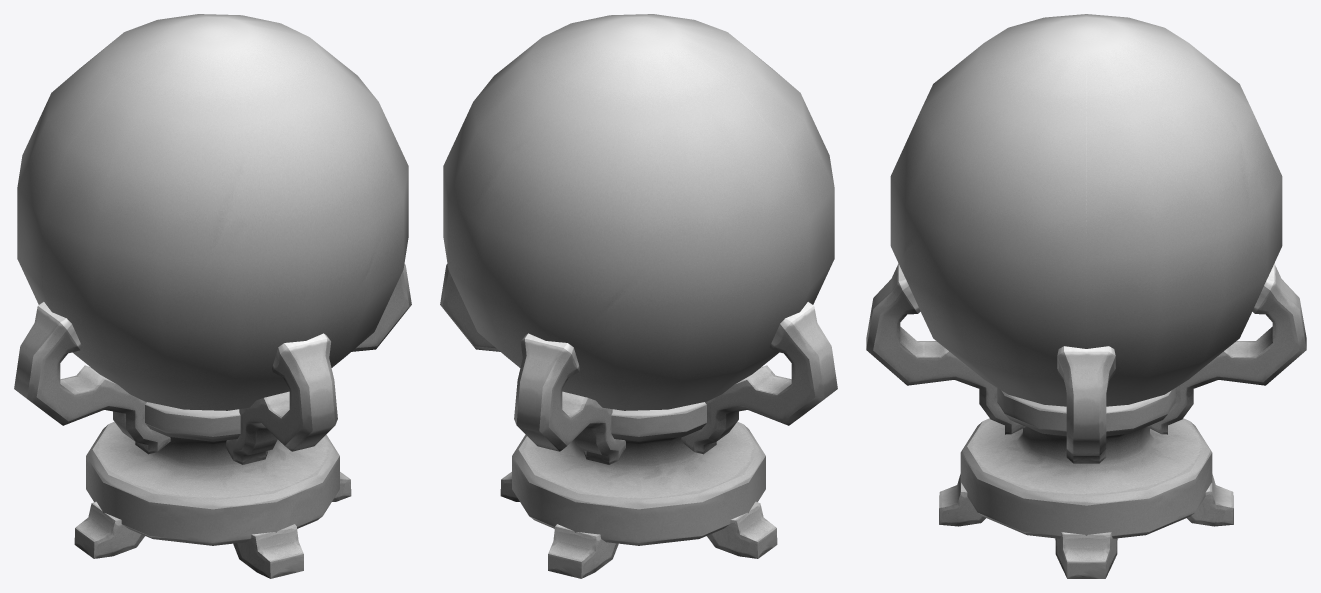
Rendered from 279_an_orb.fbx.
3 renders of one model, left to right at view 1: azimuth 30°, elevation 25°; view 2: azimuth 150°, elevation 25°; view 3: azimuth 270°, elevation 25°, orthographic.
Parts seen in each view (by area): view 1: 279_an_orb; view 2: 279_an_orb; view 3: 279_an_orb.
Part boxes in pixels (bbox=[...]): 279_an_orb: bbox=[14, 14, 411, 578]; 279_an_orb: bbox=[440, 14, 837, 578]; 279_an_orb: bbox=[866, 14, 1306, 578].
Bounding box in the file's own units: 25.97 × 31.63 × 25.97.
